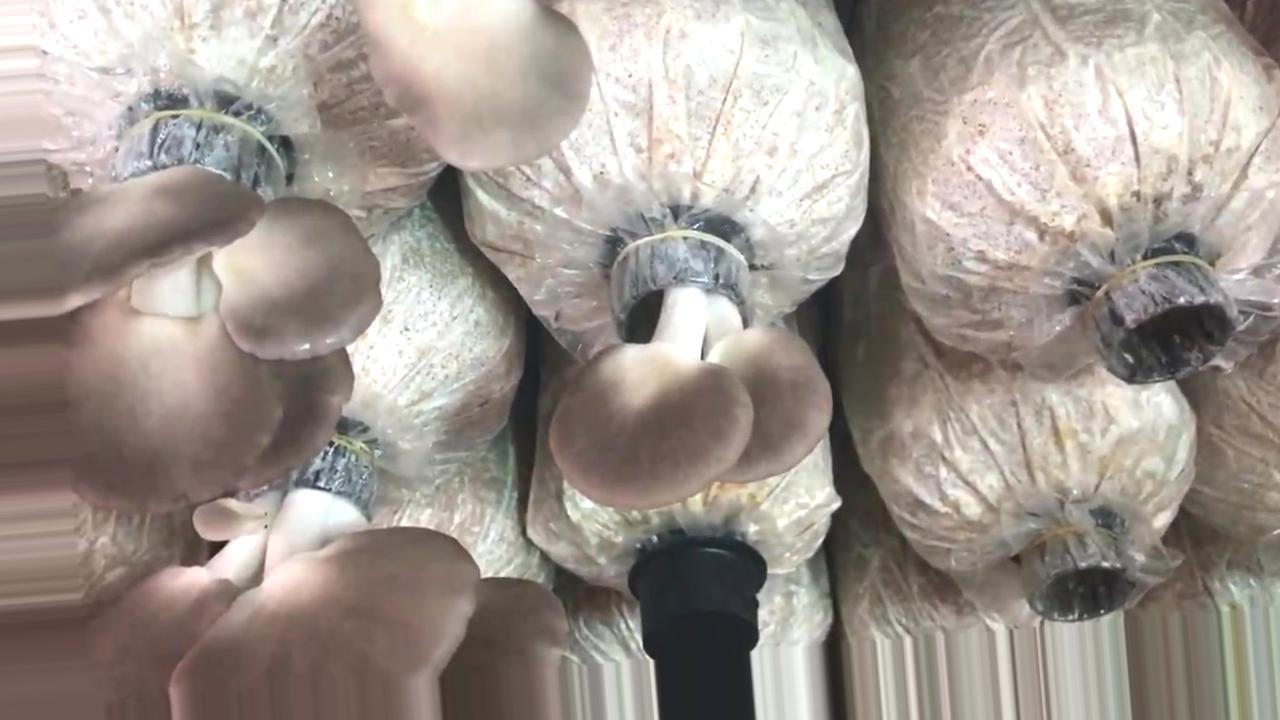nam: (3, 435, 571, 720), (1, 92, 381, 511), (550, 235, 834, 510), (367, 1, 593, 175)
